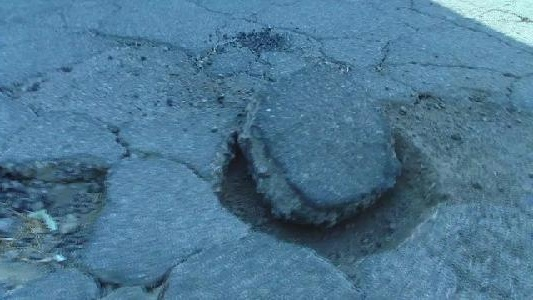pothole: (211, 111, 449, 271), (0, 156, 116, 275)
